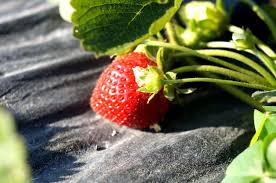ripe: (90, 48, 180, 131)
